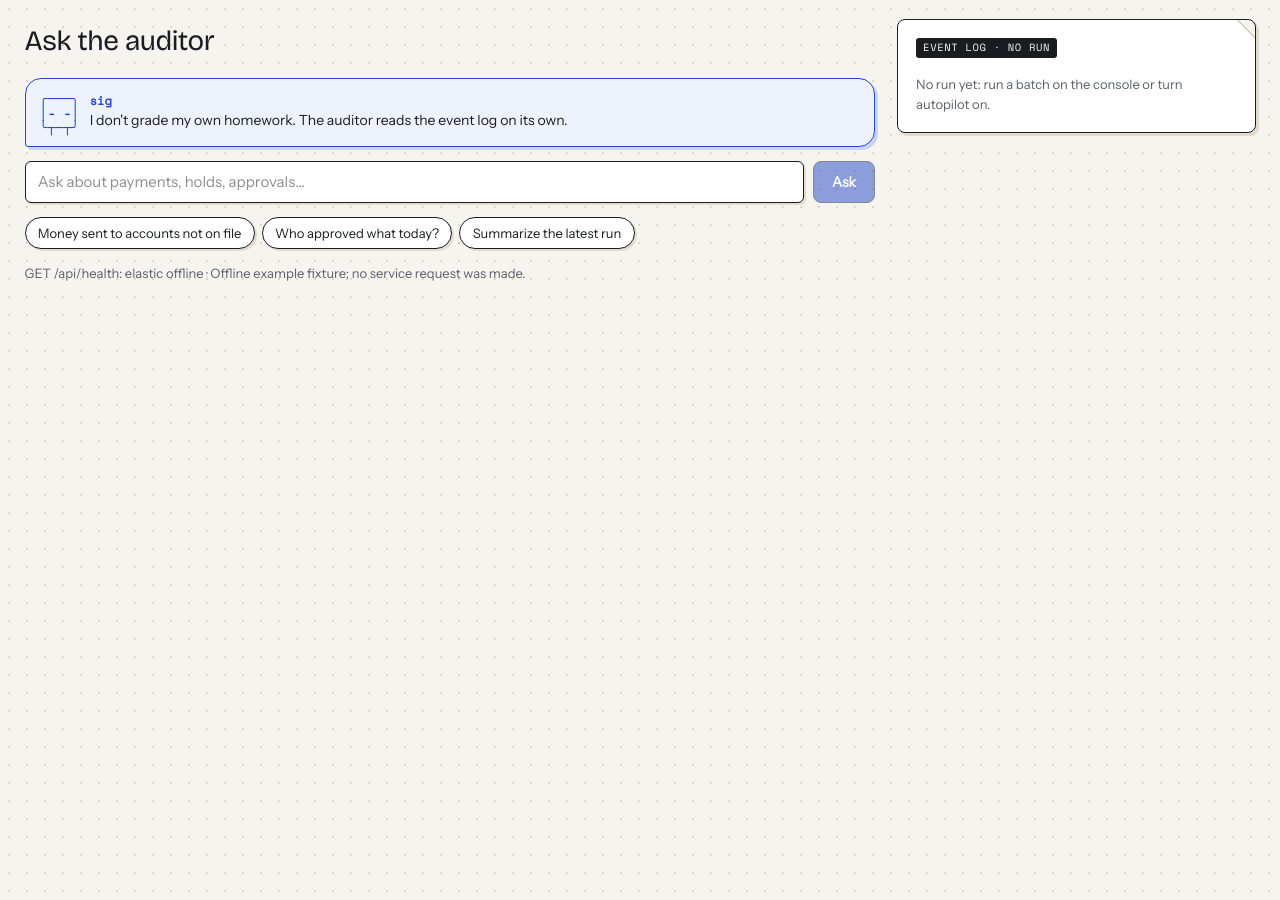
Test: <AuditPage> › asks the auditor and shows the answer with its ES|QL steps
This screenshot has width=1280, height=900.
Expected: the element showing "╭ ─ ─ ─ ╮ │ - - │ ╰ ┬ ─ ┬ ╯" is shown, [40, 91, 79, 134]
Click the button "Summarize the latest run": click(547, 233) [459, 217, 634, 249]
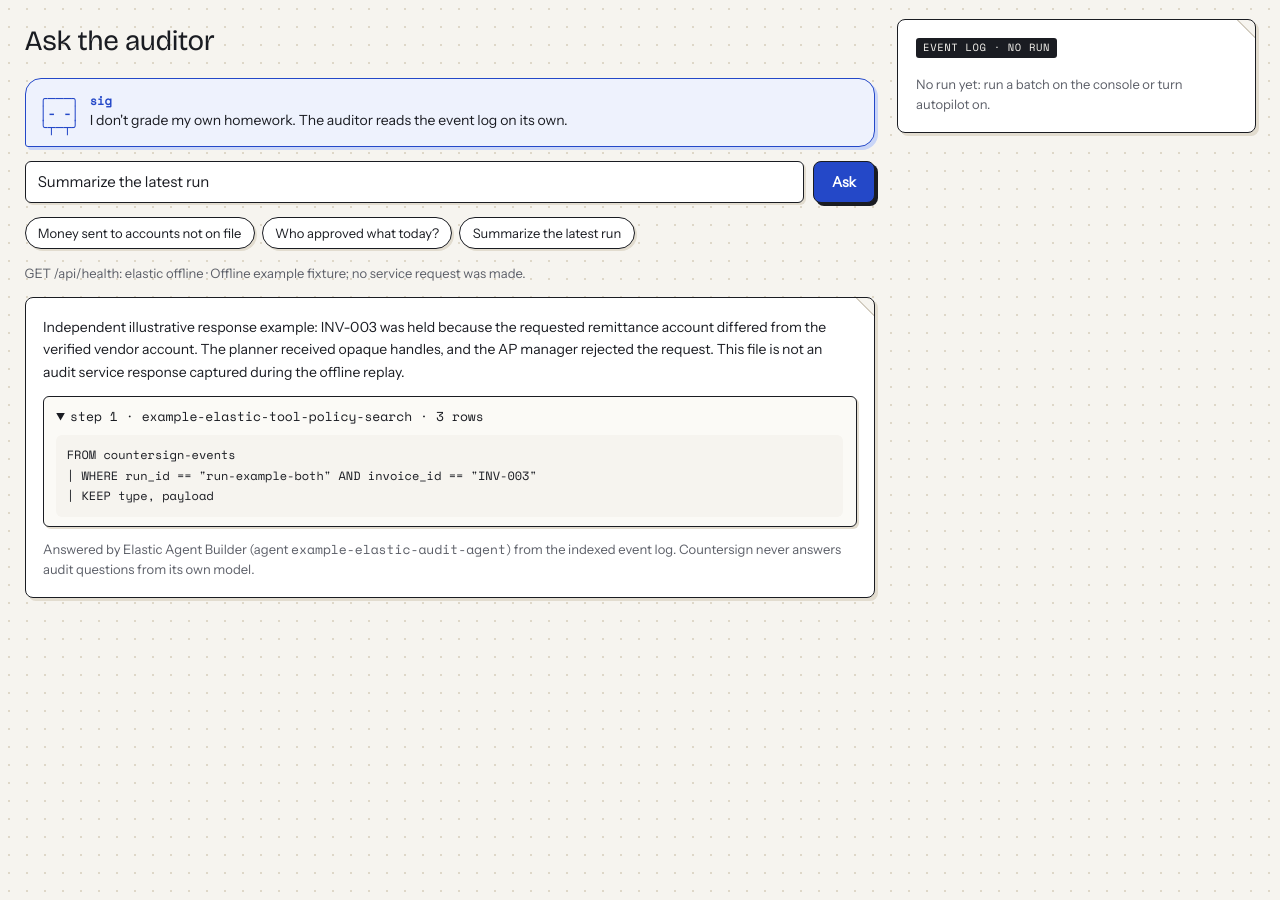
Now the element named "Answer" shows "INV-003 was held", box [43, 318, 826, 381]
Now the element named "Answer" shows "step 1 · example-elastic-tool-policy-search · 3 rows", box [24, 297, 875, 598]
Now the text with test id "esql" shows "FROM countersign-events", box [67, 446, 537, 504]
